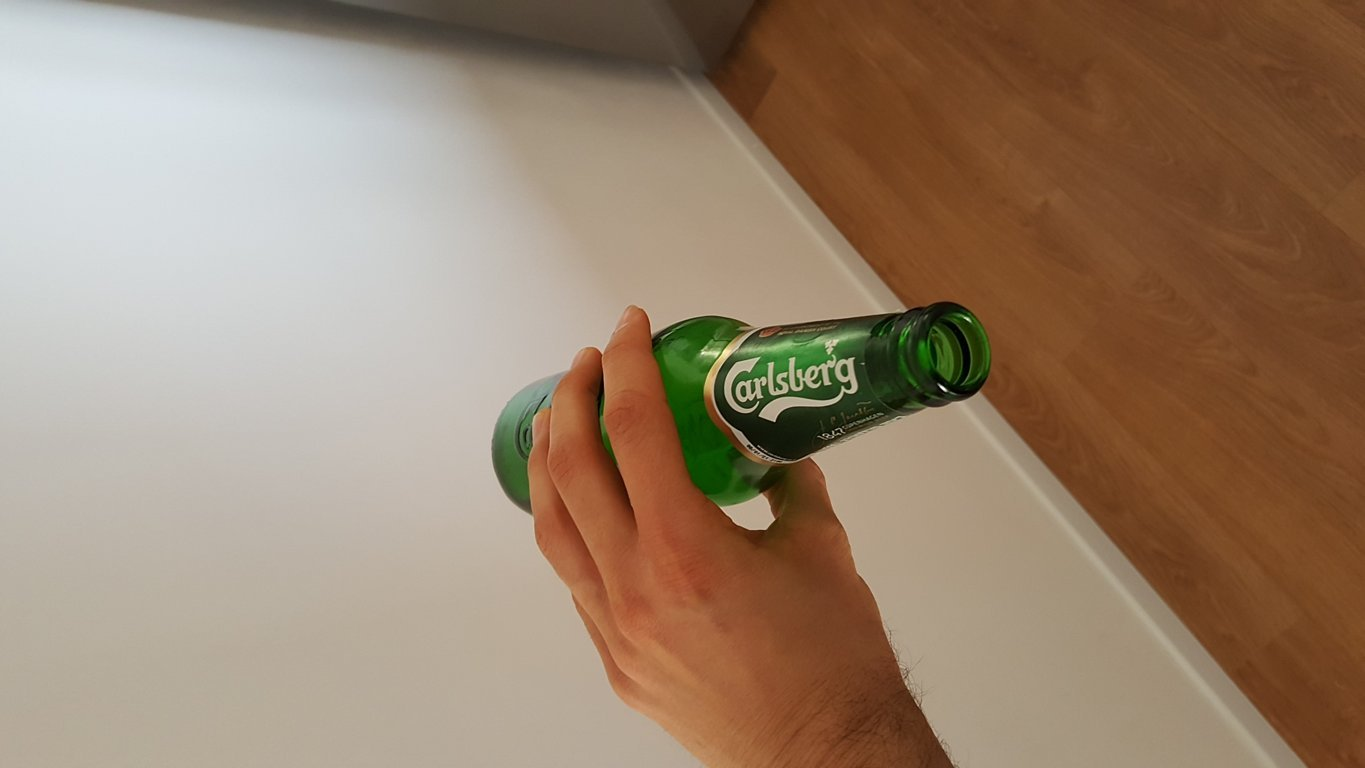beer: (493, 303, 992, 506)
